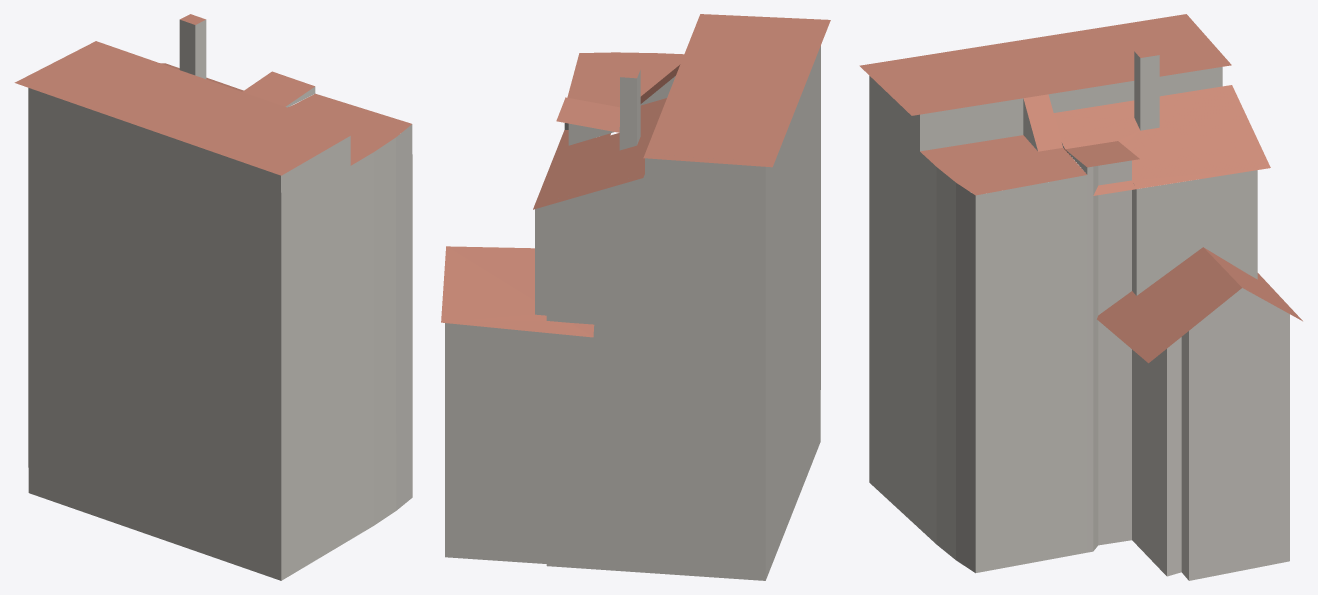
3 views of the same model, side by side, from view 1: azimuth 30°, elevation 25°; view 2: azimuth 150°, elevation 25°; view 3: azimuth 270°, elevation 25° (orthographic). The views are drawn at different scales.
Visible parts, largest first — view 1: swisstopo:swissbuildings3d:f3f1836e-2ae7-473c-9b4a-1e90a5037; view 2: swisstopo:swissbuildings3d:f3f1836e-2ae7-473c-9b4a-1e90a5037; view 3: swisstopo:swissbuildings3d:f3f1836e-2ae7-473c-9b4a-1e90a5037.
Part boxes in pixels (left/top/right/bottom): swisstopo:swissbuildings3d:f3f1836e-2ae7-473c-9b4a-1e90a5037: left=14, top=14, right=412, bottom=580; swisstopo:swissbuildings3d:f3f1836e-2ae7-473c-9b4a-1e90a5037: left=441, top=14, right=830, bottom=580; swisstopo:swissbuildings3d:f3f1836e-2ae7-473c-9b4a-1e90a5037: left=859, top=14, right=1302, bottom=580.
Bounding box in the file's own units: 16.65 × 21.59 × 19.17.
